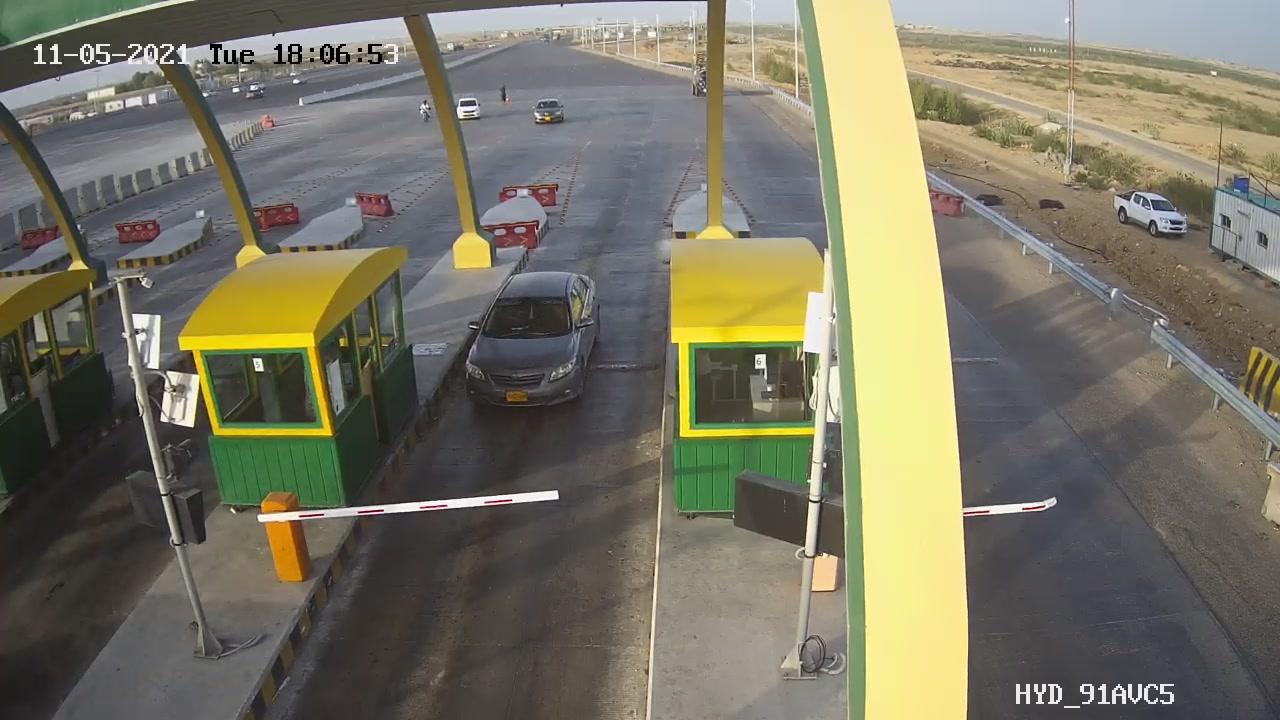F1: (456, 260, 617, 429)
